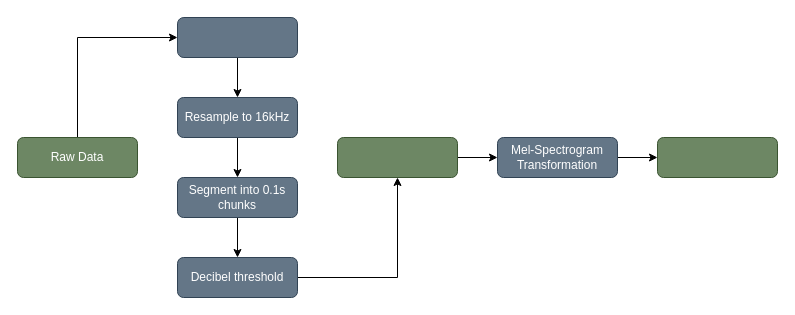
This 795x315 diagram has some shape labels left out. Here are the shapes that lost their labels. From the top down, the centre of each, then its label:
At point 237,37: "Convert to mono".
At point 397,157: "Clean Data".
At point 717,157: "CNN Model".
